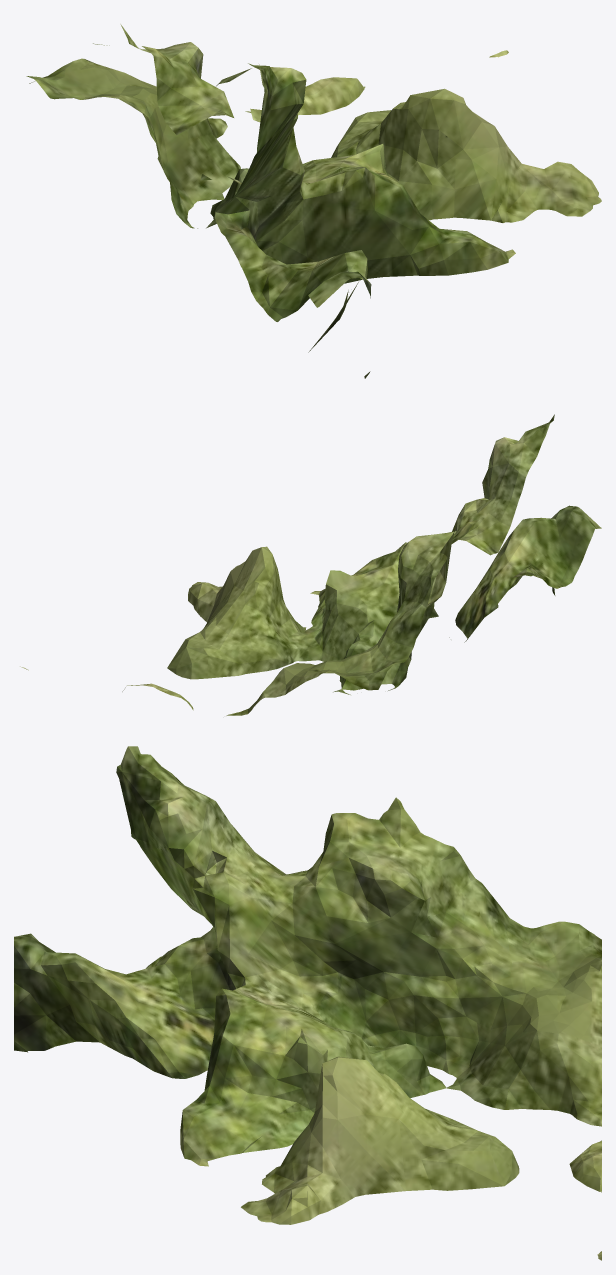
The picture shows the model from 3 angles, top to bottom: view 1: azimuth 30°, elevation 25°; view 2: azimuth 150°, elevation 25°; view 3: azimuth 270°, elevation 25°; orthographic projection. The views are drawn at different scales.
Bounding box in the file's own units: 2.78 × 1.55 × 2.95.
Materials: 2 (2 with a texture image).
